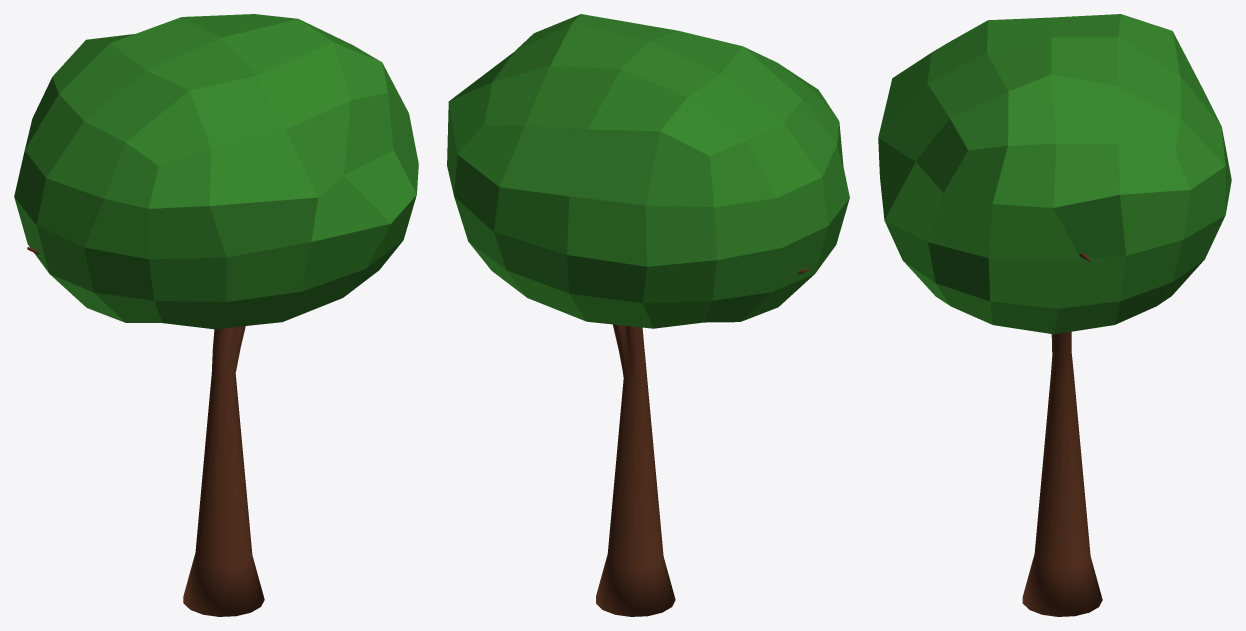
Rendered from Pohon.fbx.
The picture shows the model from 3 angles, left to right: view 1: azimuth 30°, elevation 25°; view 2: azimuth 150°, elevation 25°; view 3: azimuth 270°, elevation 25°; orthographic projection.
Parts seen in each view (by area): view 1: Daun Pohon, Batang Pohon; view 2: Daun Pohon, Batang Pohon; view 3: Daun Pohon, Batang Pohon.
Boxes of the visible parts, bbox=[...] form: Daun Pohon: bbox=[14, 14, 418, 329]; Batang Pohon: bbox=[27, 247, 264, 616]; Daun Pohon: bbox=[447, 14, 849, 328]; Batang Pohon: bbox=[596, 268, 808, 616]; Daun Pohon: bbox=[878, 14, 1231, 334]; Batang Pohon: bbox=[1022, 253, 1102, 616].
Size of the model in its own units: 7.19 by 10.9 by 6.25.
